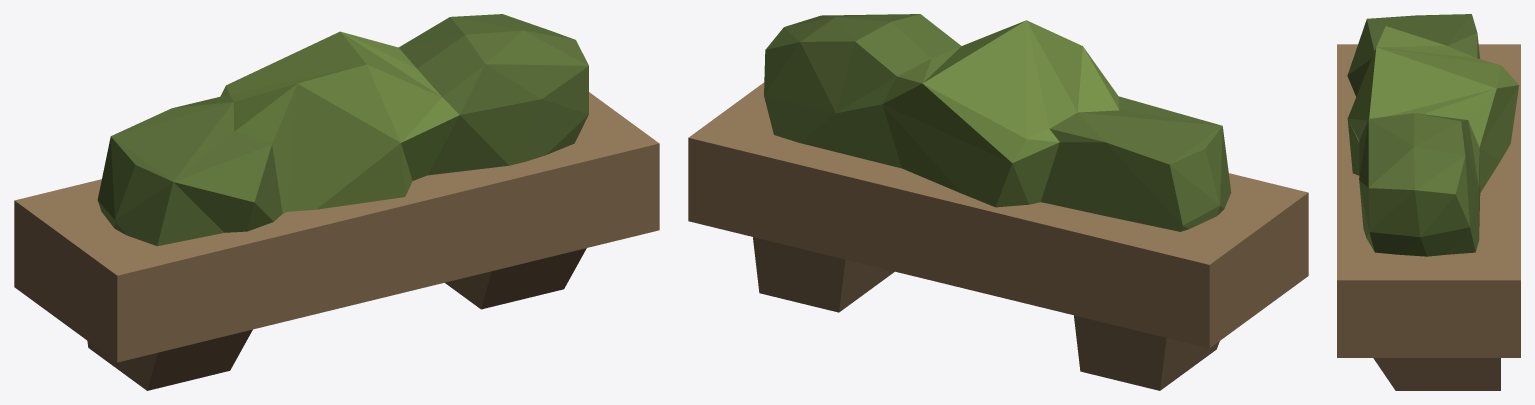
Rendered from SM_Prop_Planter_02.fbx.
3 renders of one model, left to right at view 1: azimuth 30°, elevation 25°; view 2: azimuth 150°, elevation 25°; view 3: azimuth 270°, elevation 25°, orthographic. The views are drawn at different scales.
Visible parts, largest first — view 1: SM_Prop_Planter_02; view 2: SM_Prop_Planter_02; view 3: SM_Prop_Planter_02.
Part boxes in pixels (x1,y1,x2,y2): SM_Prop_Planter_02: [14, 14, 659, 390]; SM_Prop_Planter_02: [688, 14, 1308, 390]; SM_Prop_Planter_02: [1337, 14, 1520, 390].
Size of the model in its own units: 129 by 64.38 by 42.34.
Materials: 1 (1 with a texture image).
